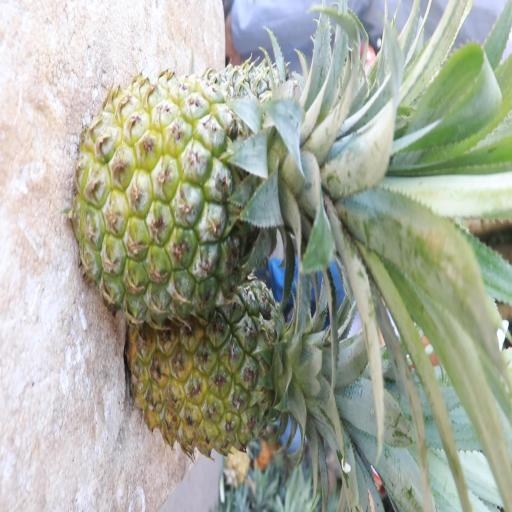------------------------------: (74, 73, 325, 317)
Pineapple - v8 v1: (134, 289, 344, 458)
